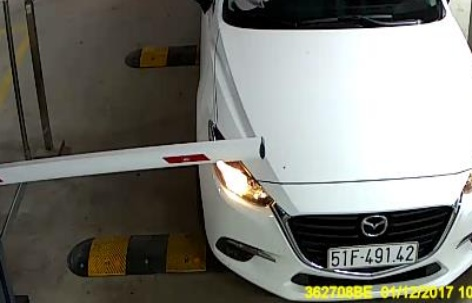plate: (327, 242, 417, 266)
